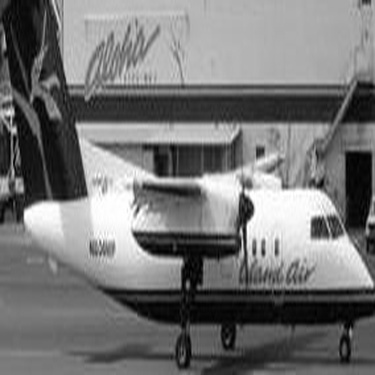airplane: (4, 2, 370, 372)
